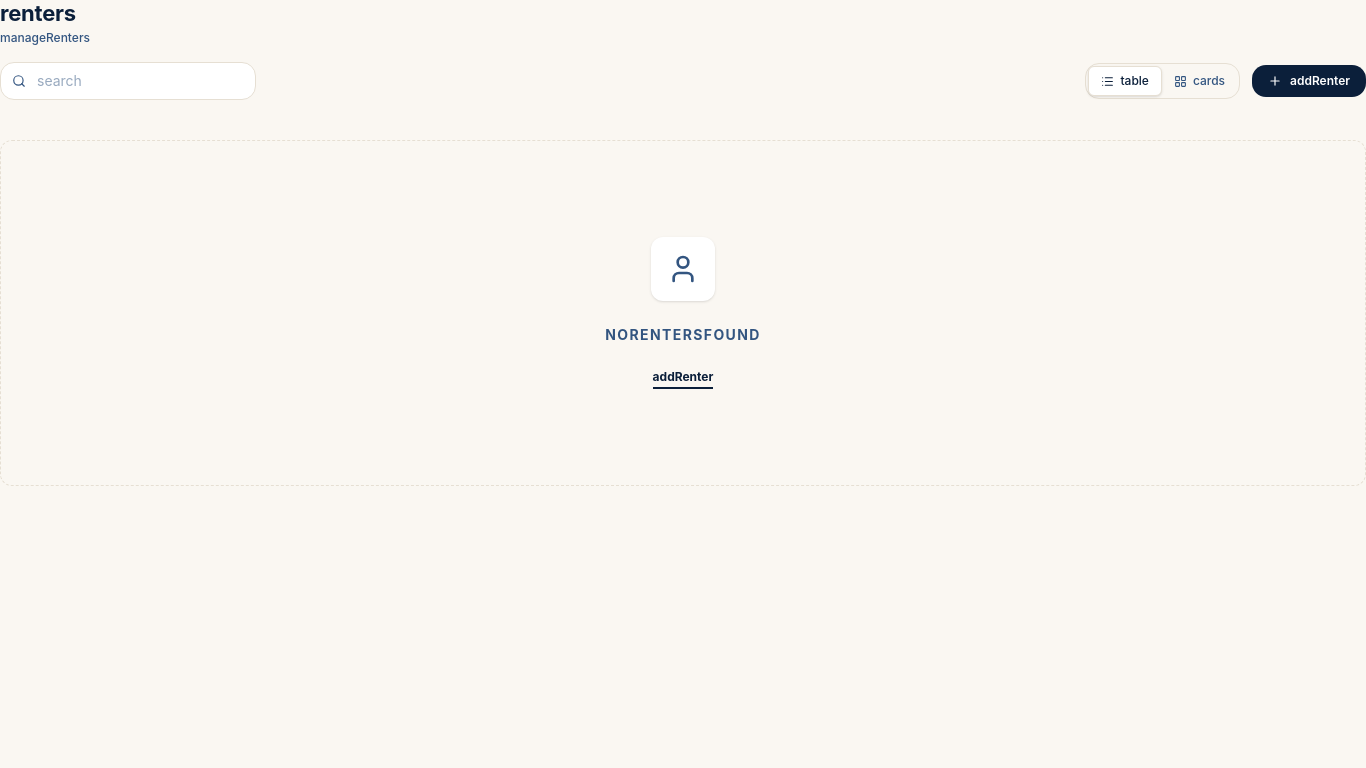
Add Tenant duplicate warning › warns on a matching email (any case, trimmed) and does not create
Click the 1st button "addRenter". click: (1309,81)
box: [1252,65,1365,97]
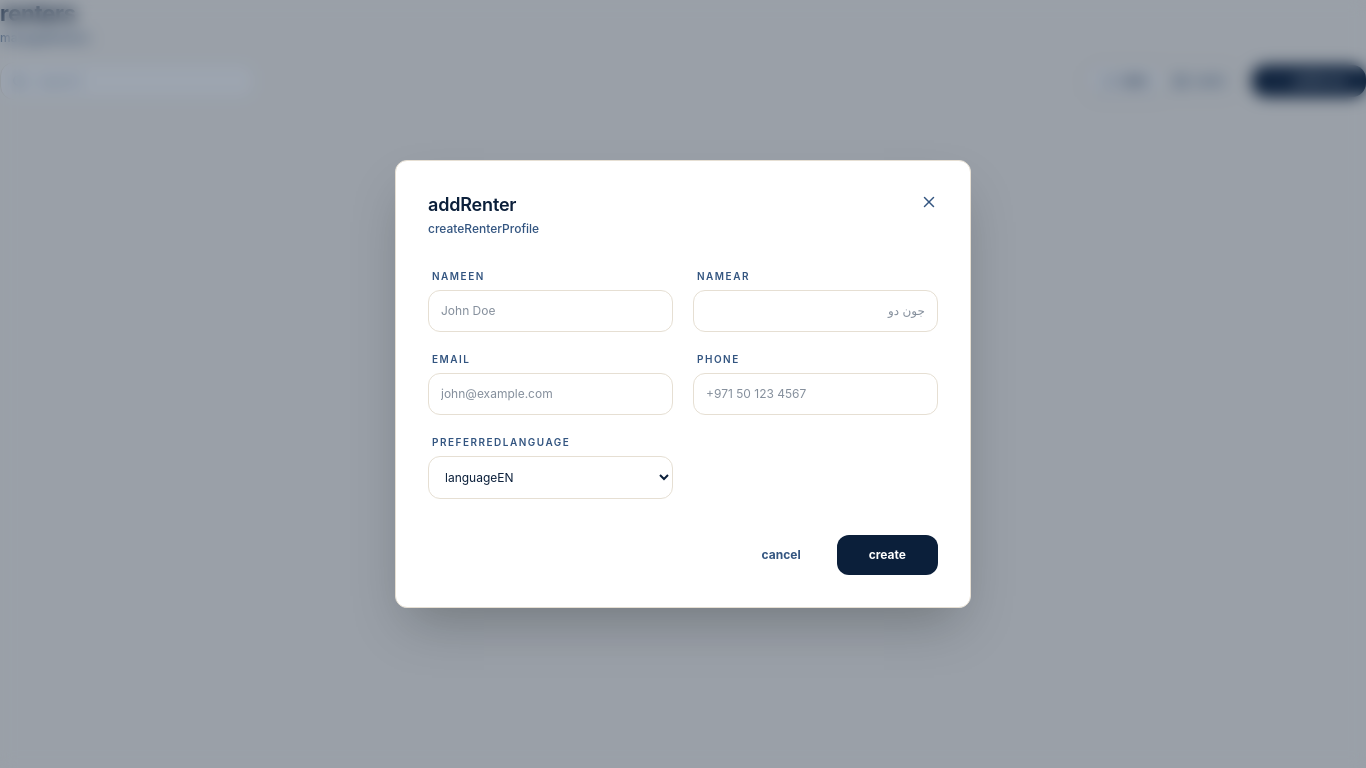
Type "New Person" into the field with placeholder "John Doe". click: (550,311)
box: [428,290,673,332]
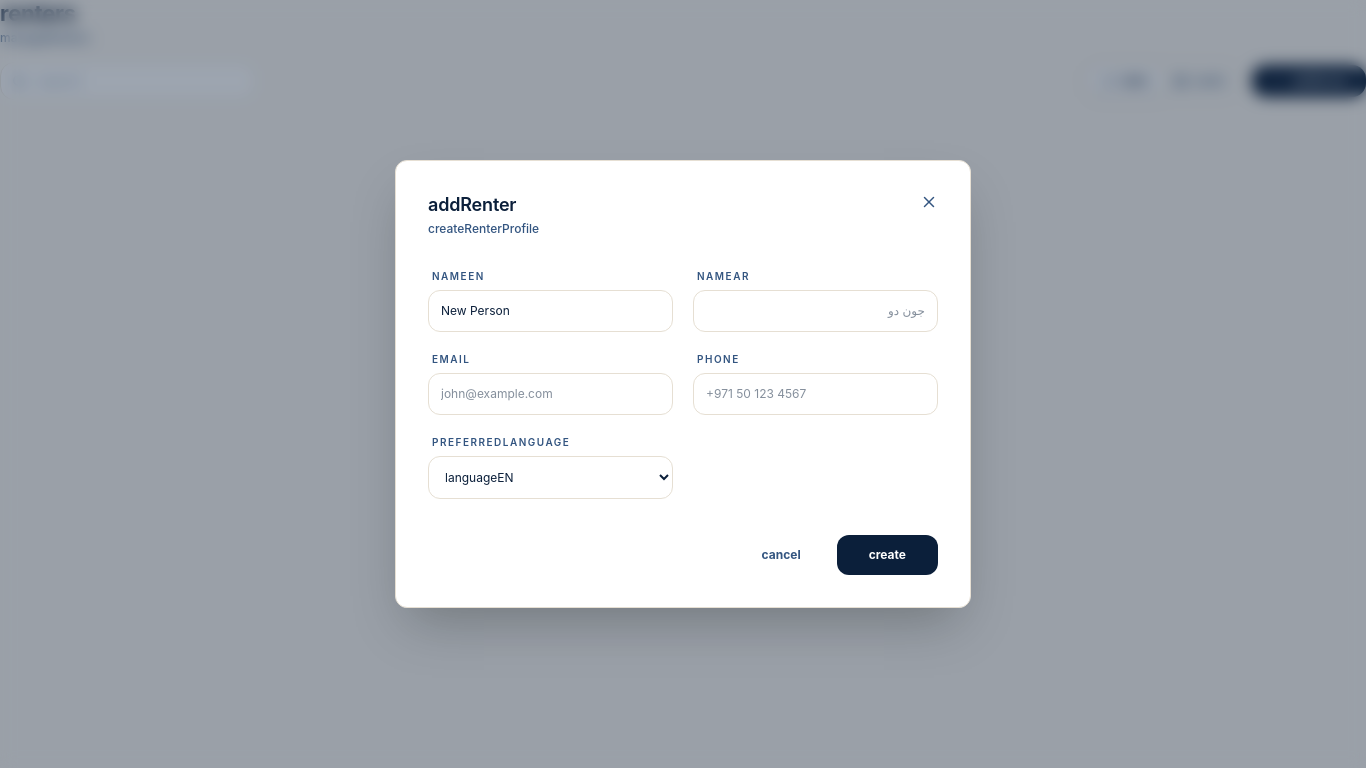
Type "  SWEEP@Example.com " into the field with placeholder "john@example.com". click: (550,394)
box: [428,373,673,415]
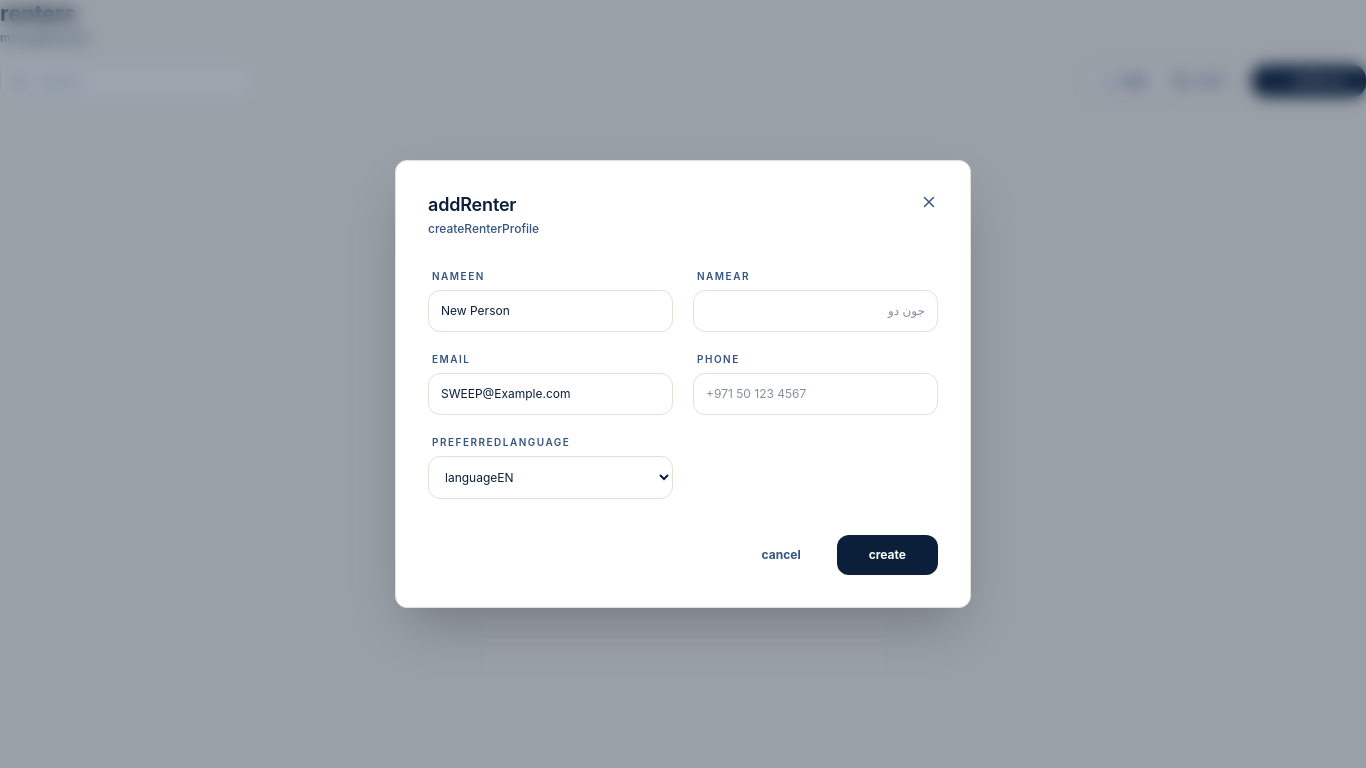
Type "0559999999" into the field with placeholder "+971 50 123 4567". click: (816,394)
box: [693,373,938,415]
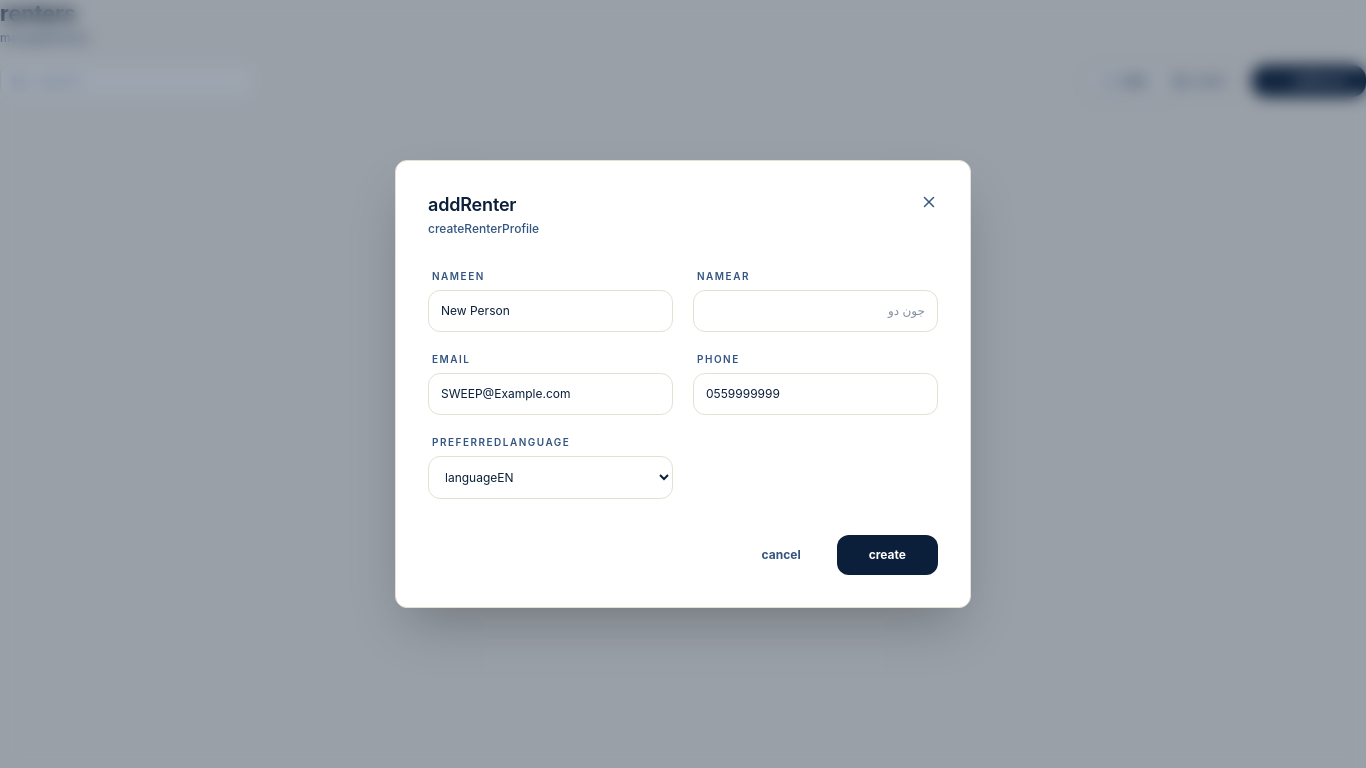
Click the button "create". click: (887,555)
box: [837,535,938,575]
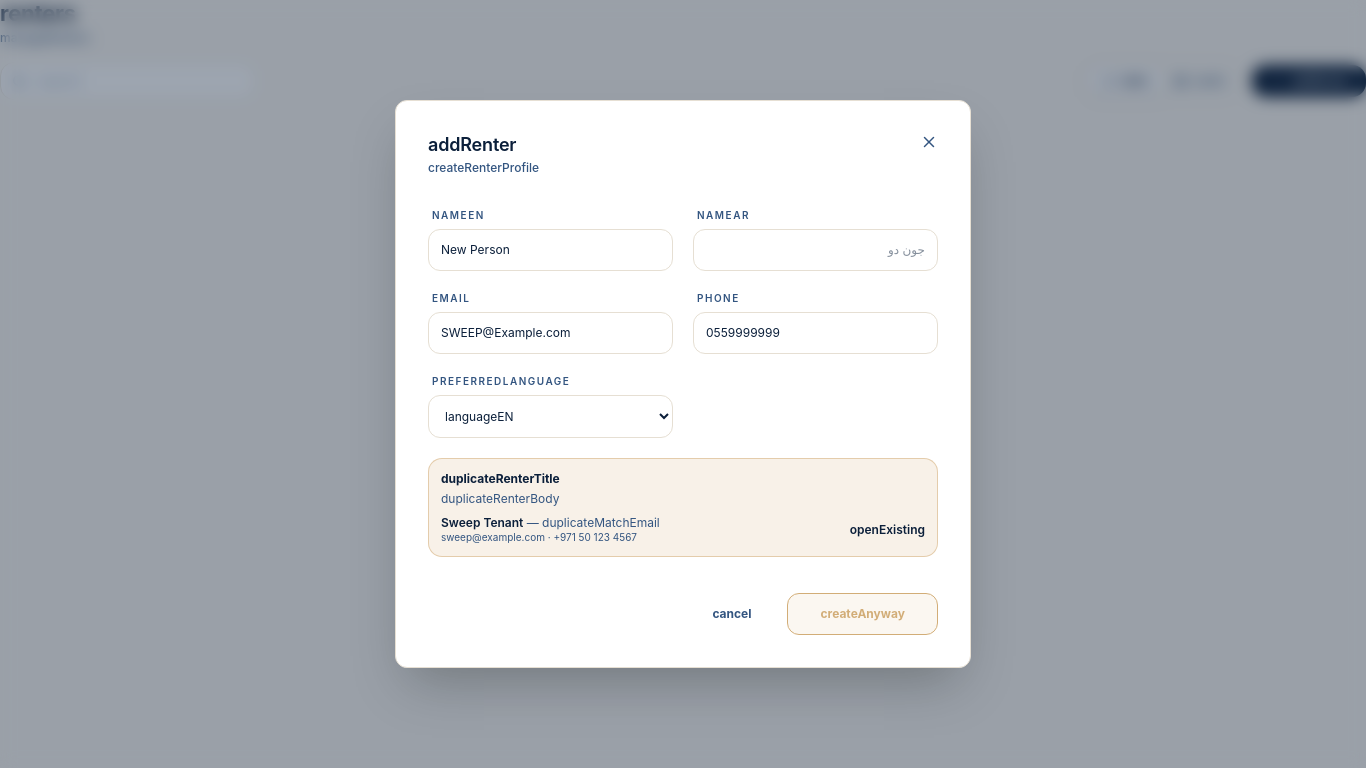
Expected: the message with test id "renter-duplicate-warning" shows "Sweep Tenant", [441,515,523,530]
Expected: the message with test id "renter-duplicate-warning" shows "duplicateMatchEmail", [542,515,660,530]
